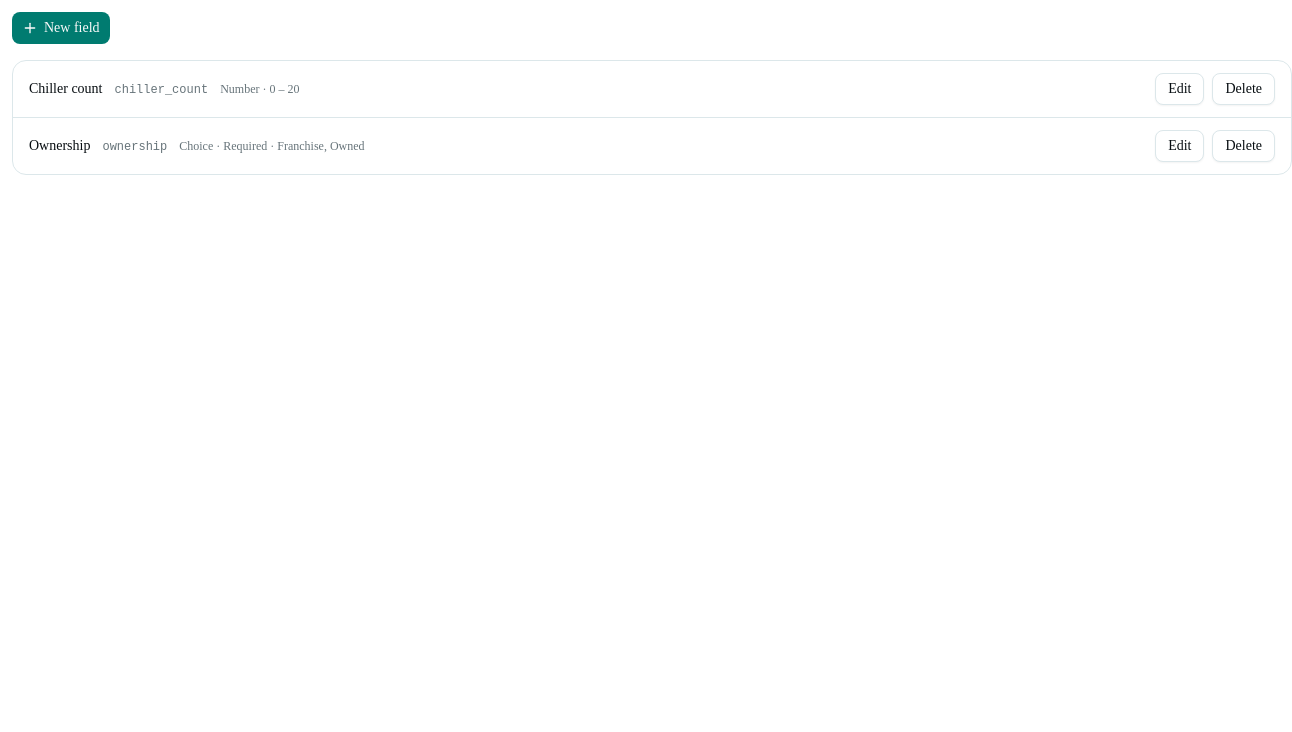
Test: <FieldDefinitionBrowser> › will not let the key be edited on a definition that exists
Click the button with aria-label "Edit Chiller count": (1180, 89) [1155,73,1204,105]
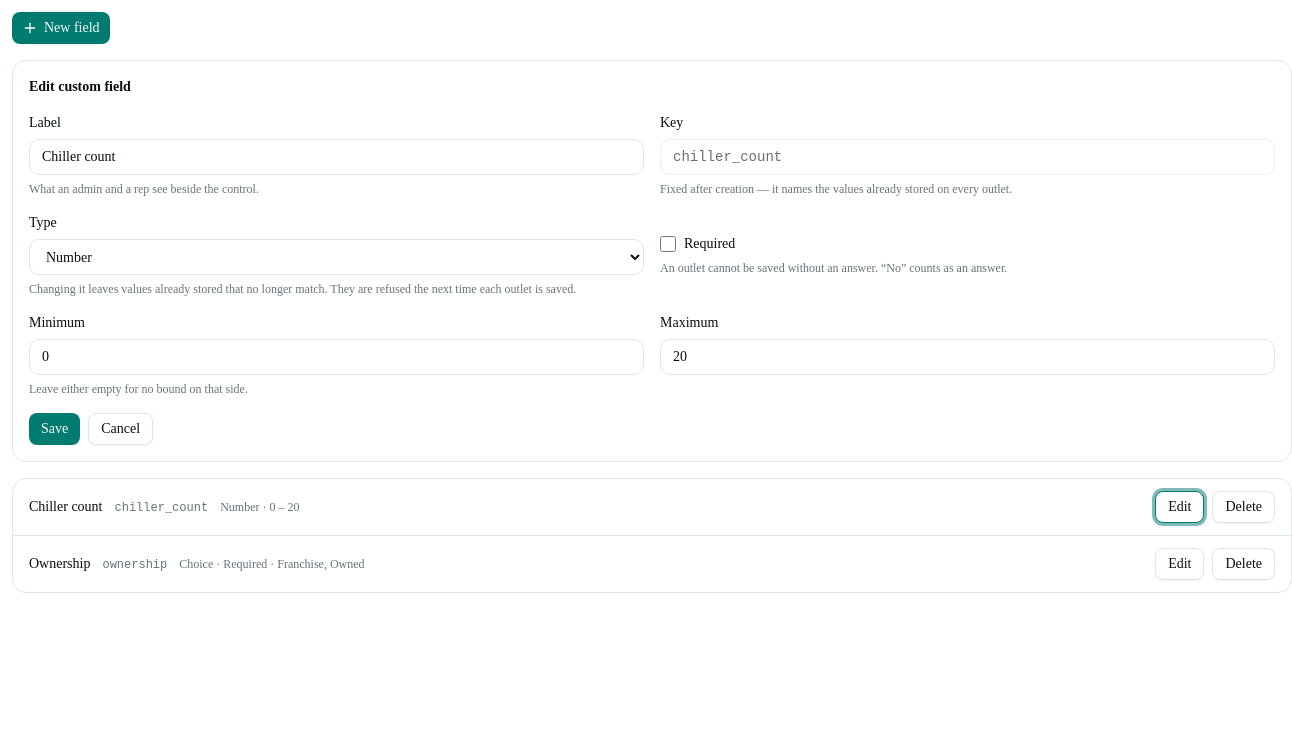
Check: the field labelled "Key" holds "chiller_count", box [660,139,1275,175]
Check: the field labelled "Key" is disabled, box [660,139,1275,175]
